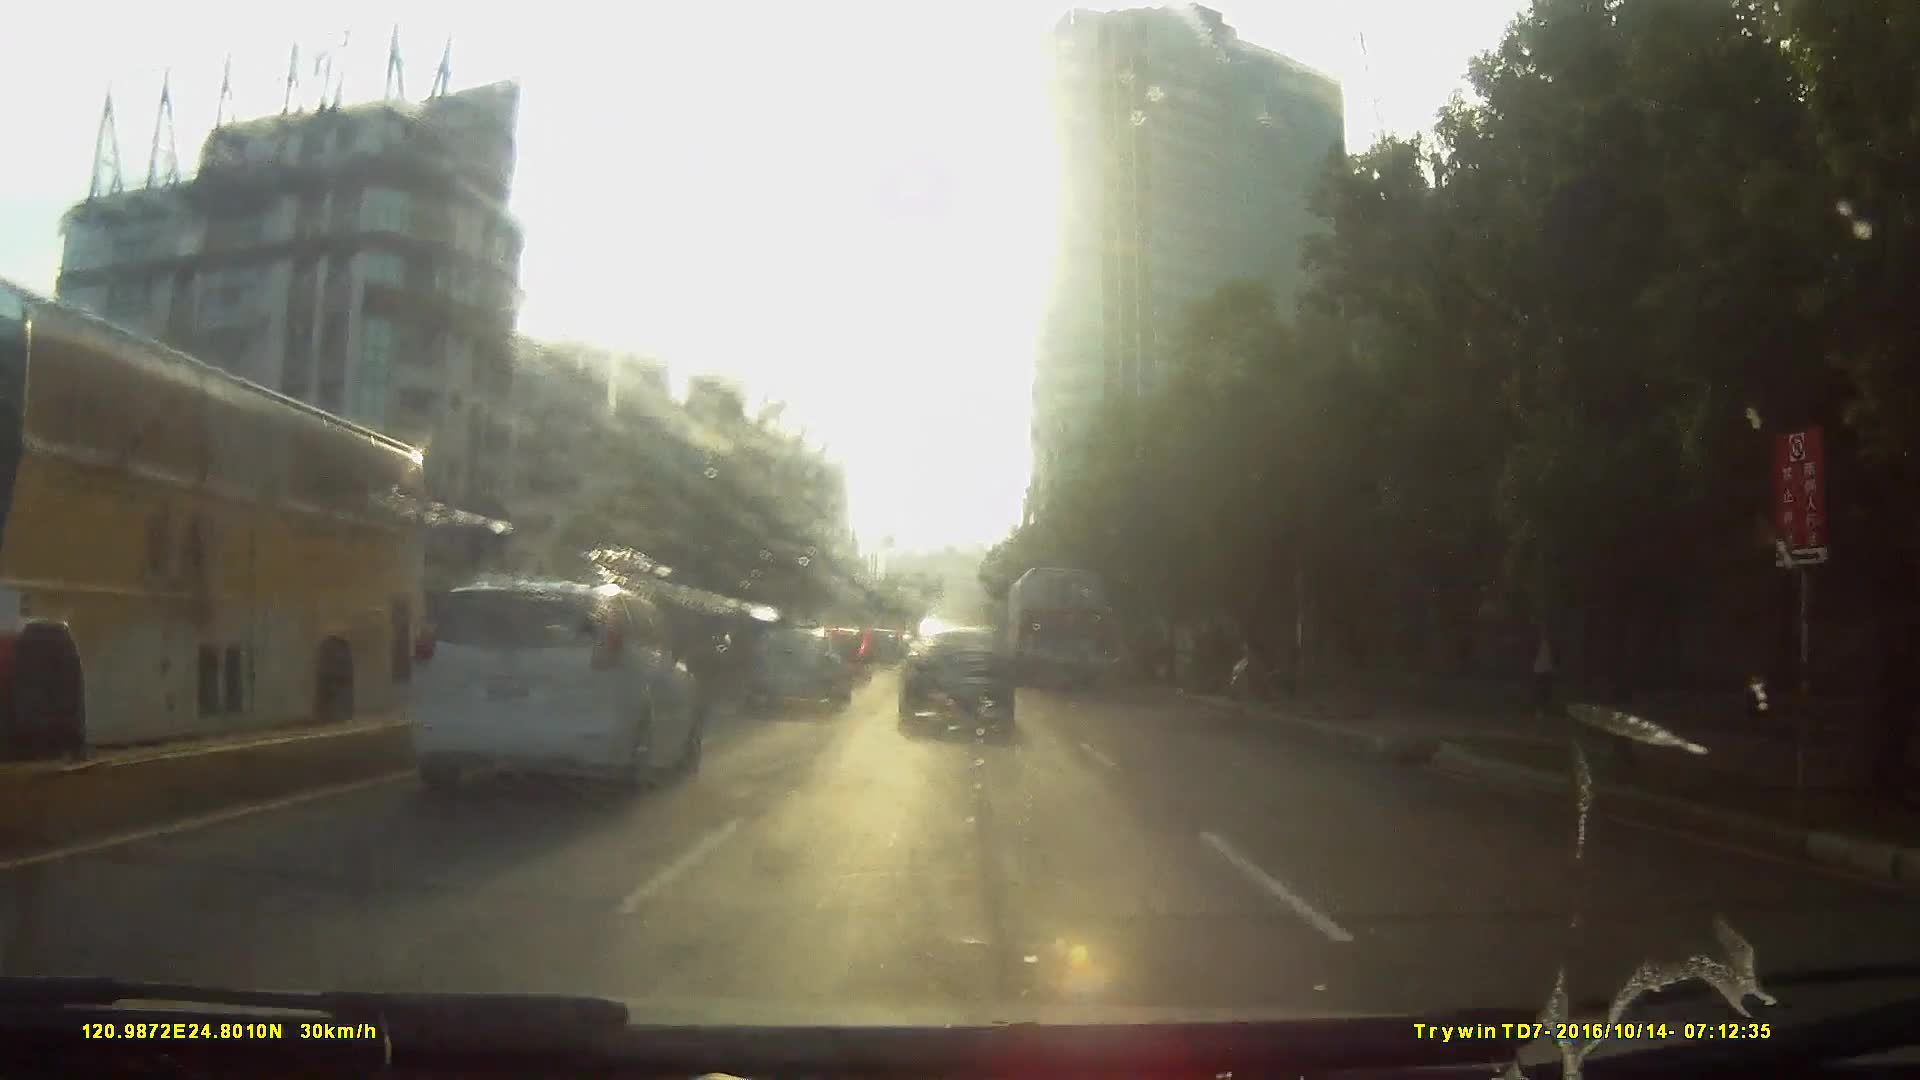pedestrian: (1506, 596, 1569, 722)
vehicle: (1, 282, 474, 820), (250, 556, 684, 868), (403, 567, 699, 804), (1008, 561, 1113, 687), (892, 616, 1012, 726), (741, 620, 849, 704), (866, 638, 915, 687)
